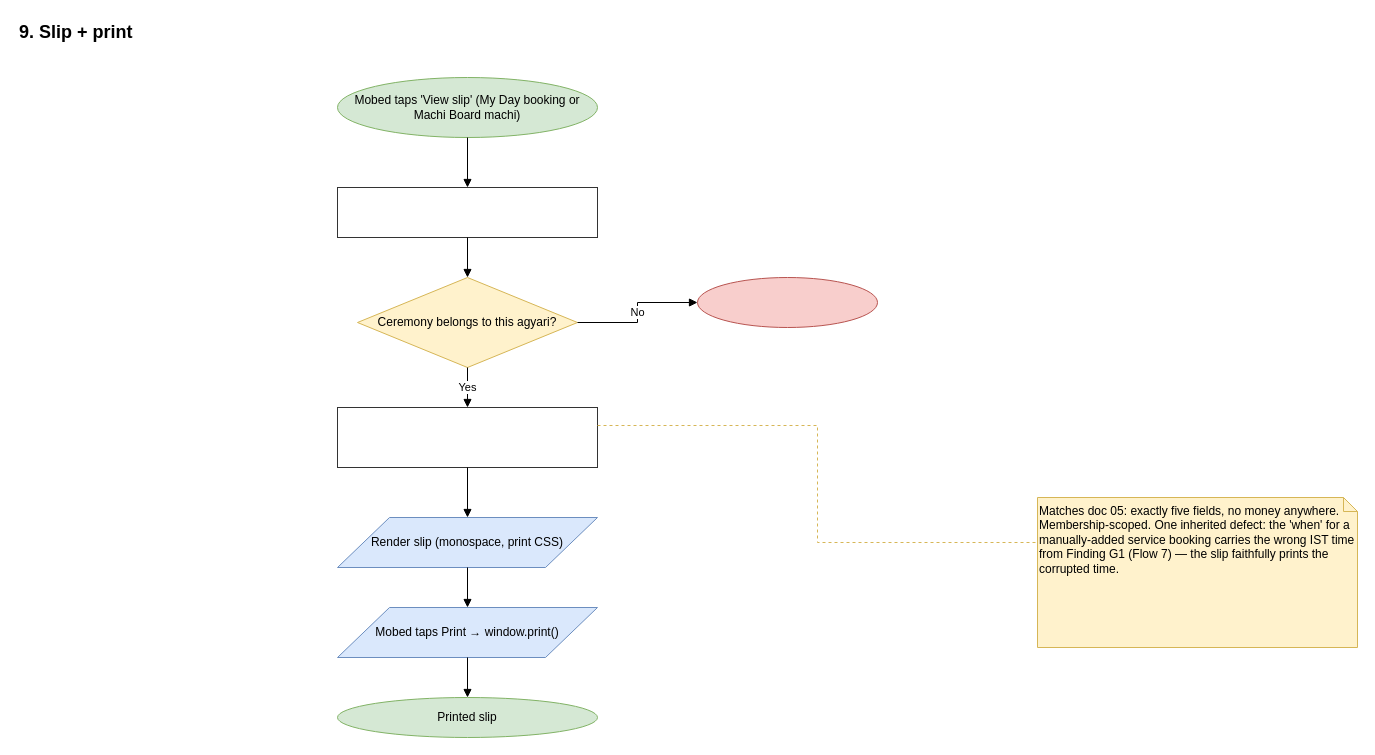
This 1375x755 diagram has some shape labels left out. Here are the shapes that lost their labels. From the top down, the box of each, then its label:
(336, 186, 598, 238): GET slip endpoint (membership-checked)
(696, 276, 878, 328): 404 Unknown
(336, 406, 598, 468): Assemble 5 fields: agyari · behdin+phone · event · when · names (NO price)
